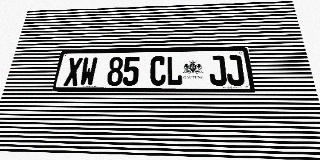5: (122, 57, 140, 86)
8: (106, 57, 124, 86)
C: (150, 56, 166, 86)
J: (225, 55, 245, 85), (208, 55, 227, 86)
L: (166, 56, 183, 86)
W: (79, 57, 98, 86)
X: (63, 57, 83, 86)
